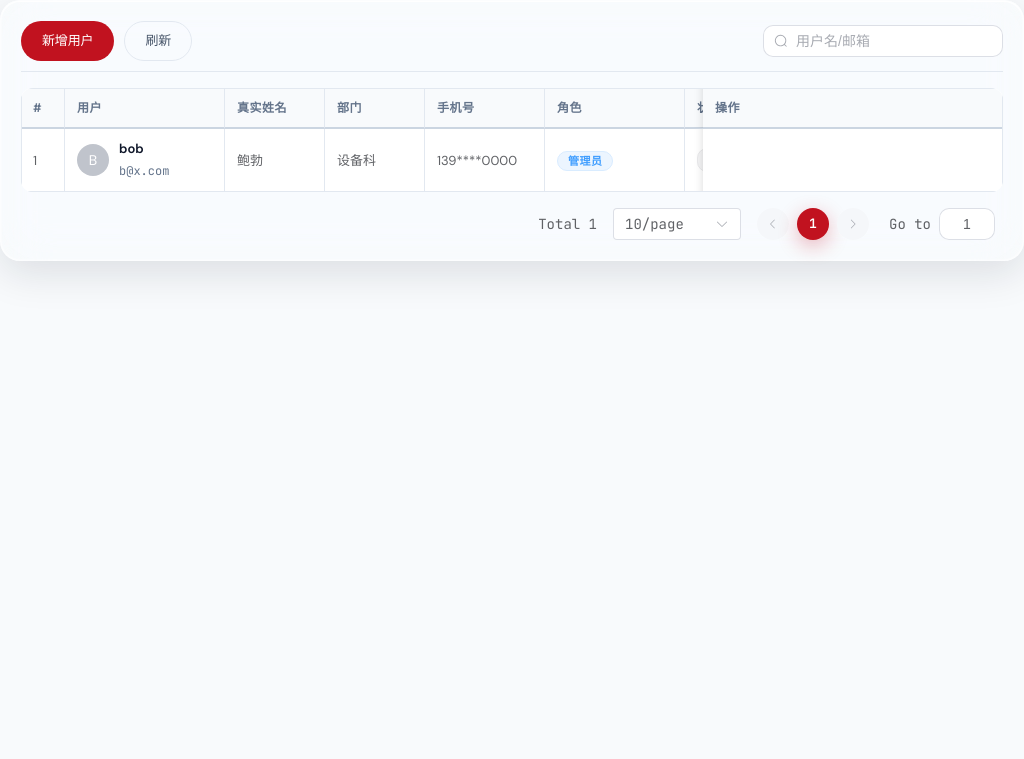
UserView 新增用户对话框 › 取消后重新打开：表单已重置，标题回到新增（不残留上一次输入）
Click the button with class "glass-btn" showing "新增用户": click(68, 41) left=21, top=21, right=114, bottom=61
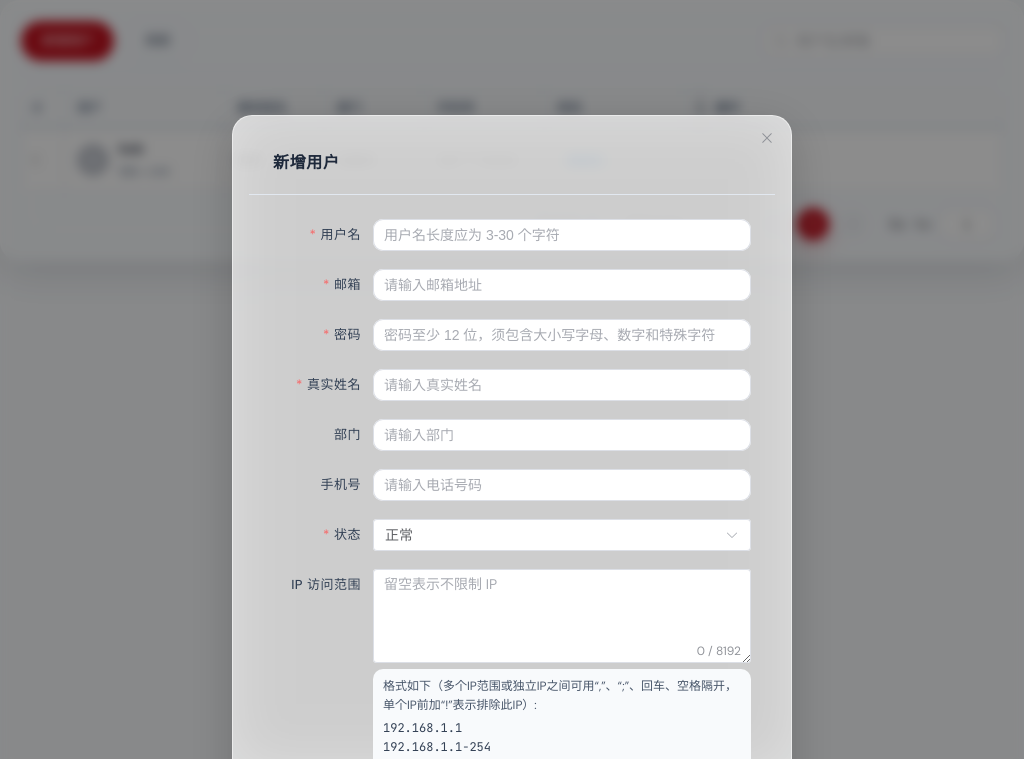
In the field labelled "用户名": (562, 235) left=384, top=220, right=740, bottom=250, type "draft-user"
(page scrolled)
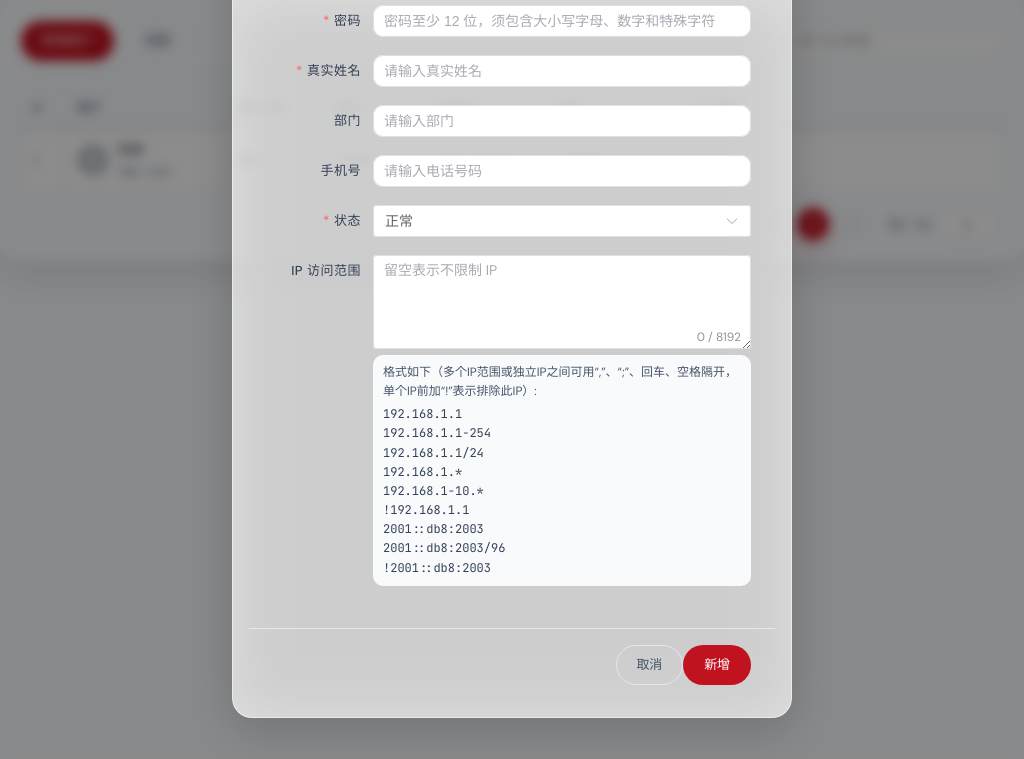
Click the button with class "glass-btn" showing "取消": click(649, 665) left=616, top=645, right=683, bottom=685
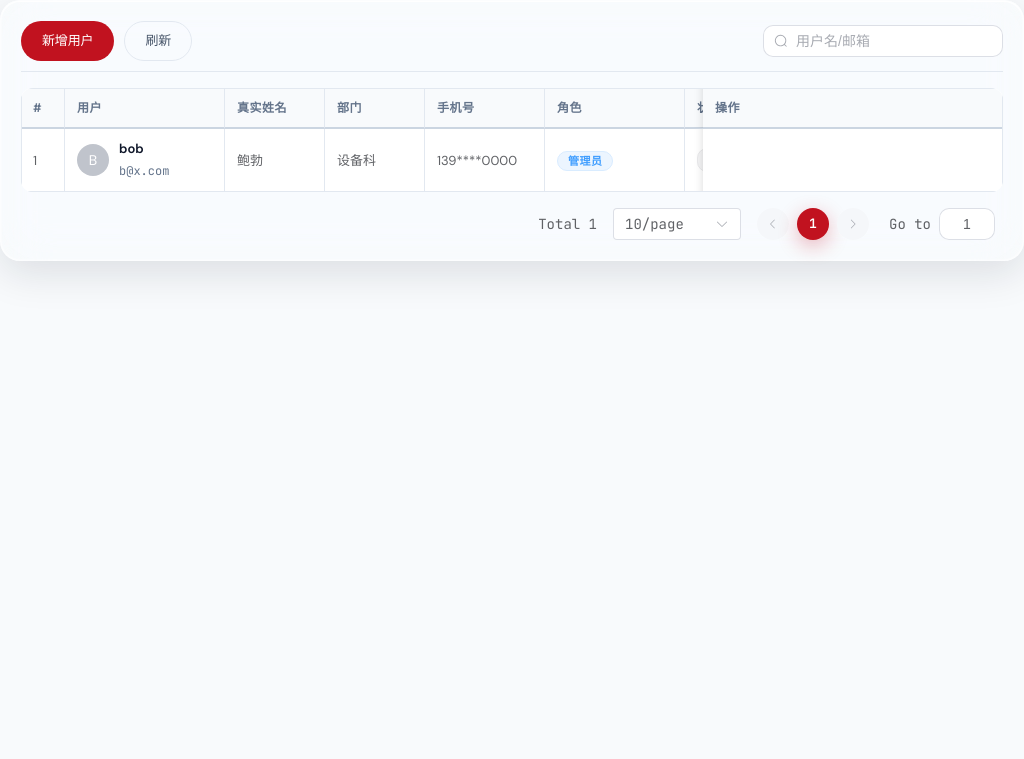
Click the button with class "glass-btn" showing "新增用户": click(68, 41) left=21, top=21, right=114, bottom=61
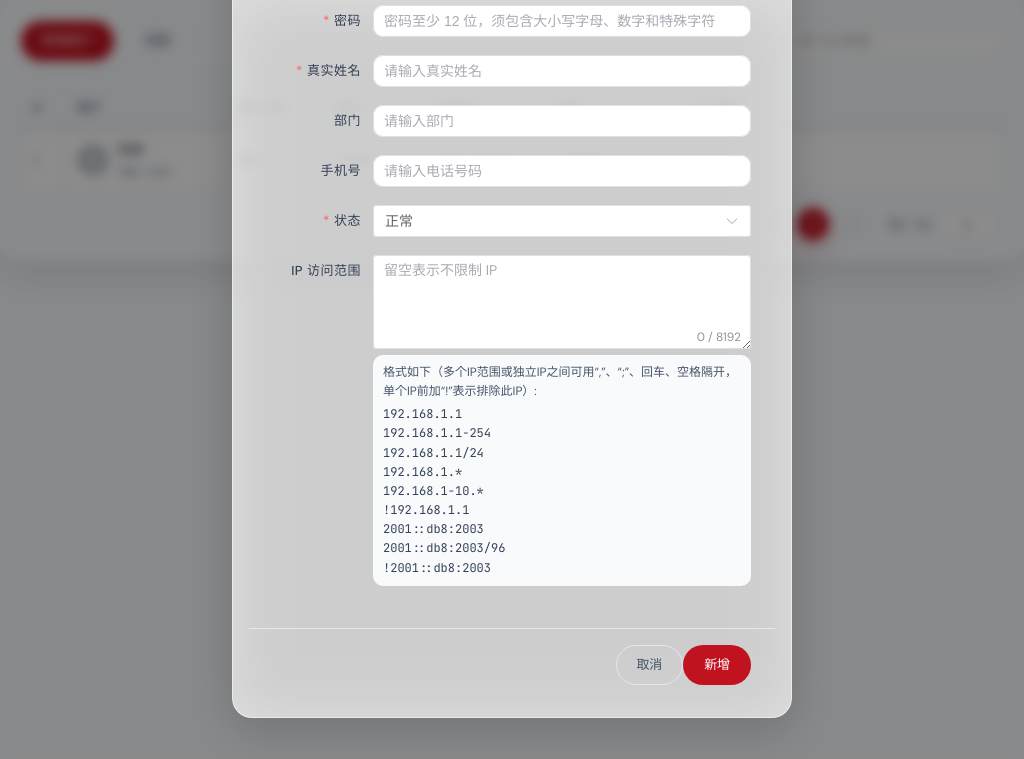
Expected: the password field with id "newUserPassword" is shown, left=384, top=6, right=740, bottom=36
